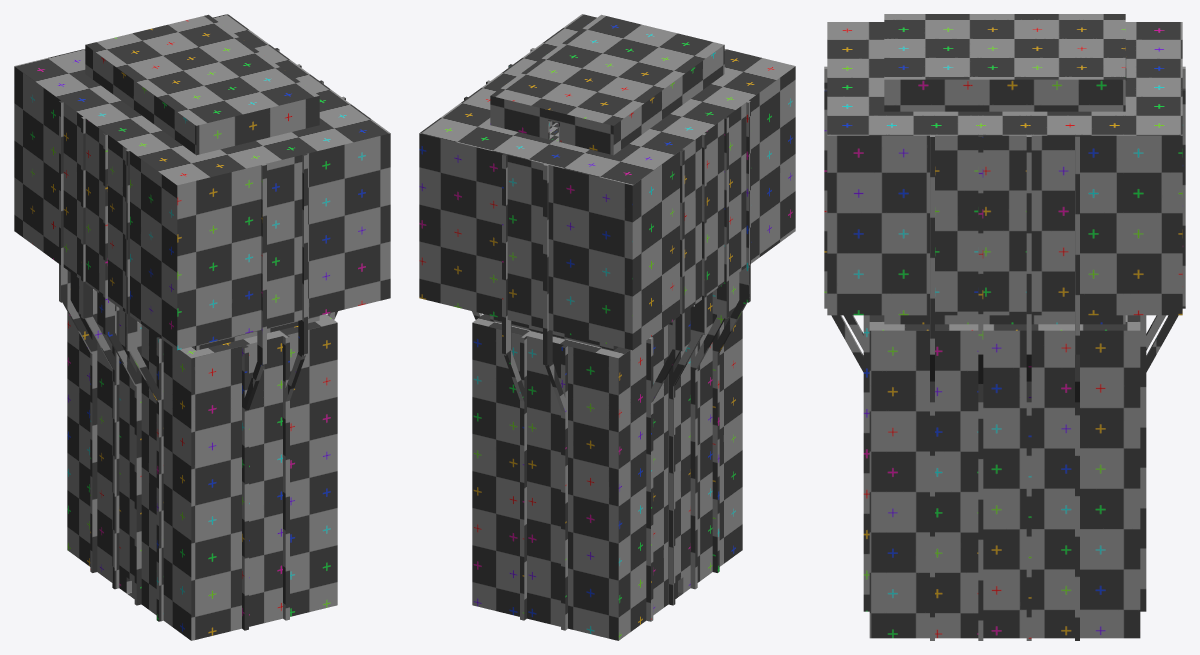
Rendered from edificio_21.glb.
The picture shows the model from 3 angles, left to right: view 1: azimuth 30°, elevation 25°; view 2: azimuth 150°, elevation 25°; view 3: azimuth 270°, elevation 25°; orthographic projection. The views are drawn at different scales.
Visible parts, largest first — view 1: Cube; view 2: Cube; view 3: Cube.
Part boxes in pixels (x1,y1,x2,y2): Cube: (14,14,390,640); Cube: (419,14,795,640); Cube: (824,14,1185,640).
Size of the model in its own units: 38.68 by 86.65 by 50.85.
1 material, 1 textured.
